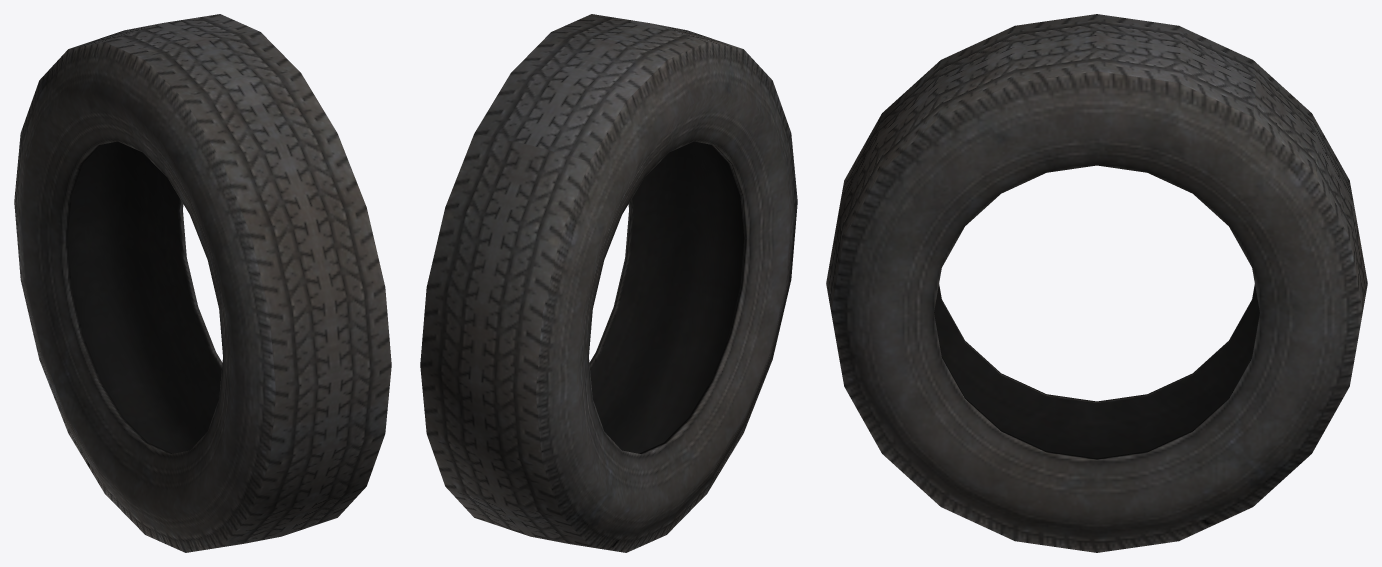
The model's file is Tire.fbx.
The picture shows the model from 3 angles, left to right: view 1: azimuth 30°, elevation 25°; view 2: azimuth 150°, elevation 25°; view 3: azimuth 270°, elevation 25°; orthographic projection.
Visible parts, largest first — view 1: Tire_LP_Tire_LP_pCylinder2; view 2: Tire_LP_Tire_LP_pCylinder2; view 3: Tire_LP_Tire_LP_pCylinder2.
Boxes of the visible parts, box(x1,y1,x2,y2) form: Tire_LP_Tire_LP_pCylinder2: box(14, 14, 391, 552); Tire_LP_Tire_LP_pCylinder2: box(420, 14, 797, 552); Tire_LP_Tire_LP_pCylinder2: box(826, 14, 1367, 552).
Bounding box in the file's own units: 0.454 × 1.42 × 1.42.
1 material, 1 textured.
